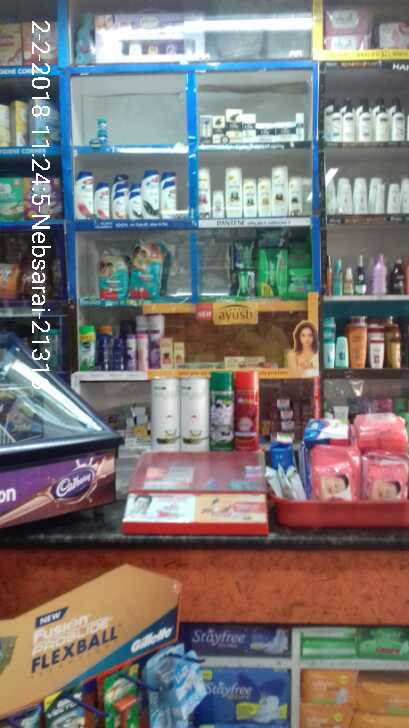vicks: (93, 109, 112, 144)
